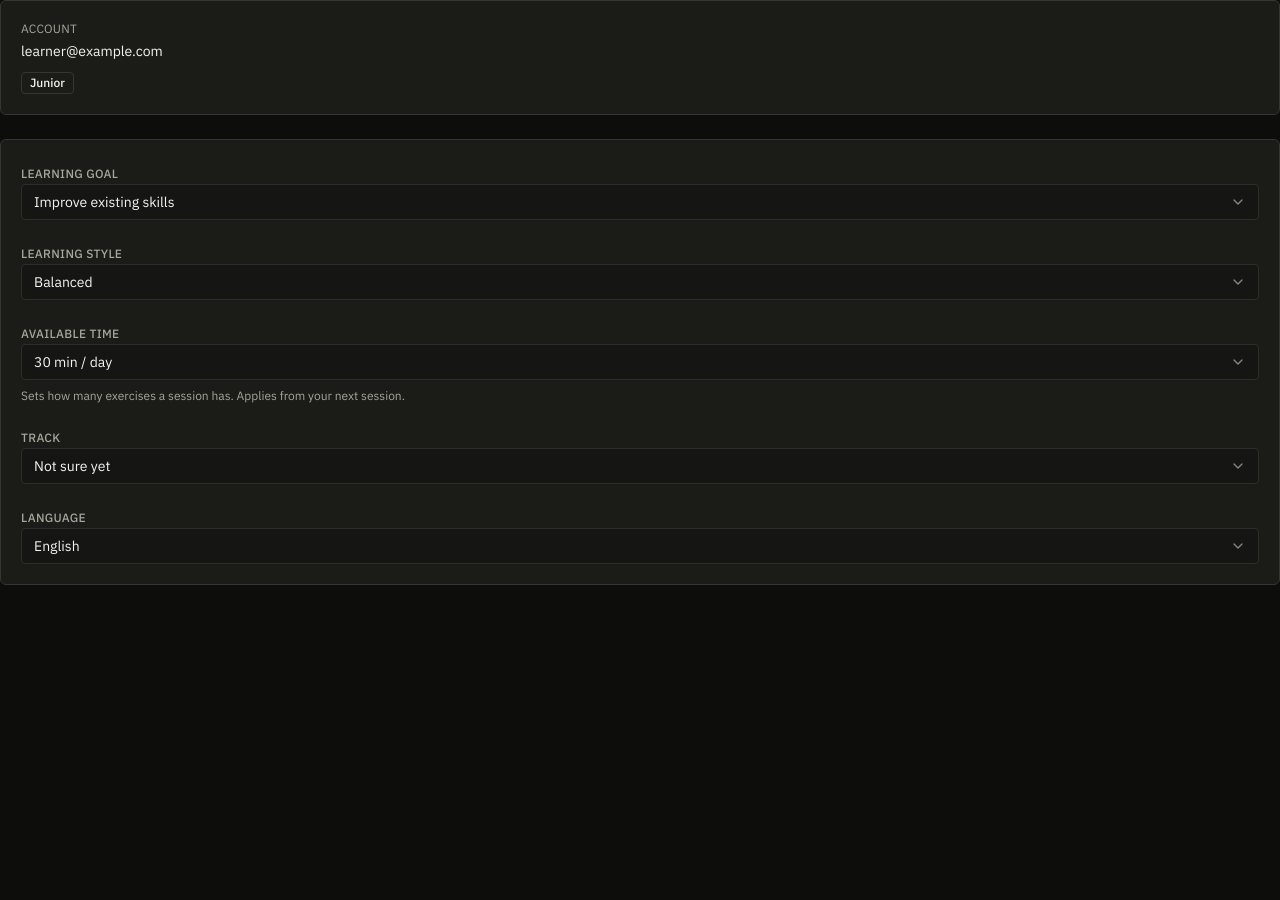
Test: SettingsForm › saves only the changed field when the learning-goal select changes, and shows the saved checkmark
Click the dropdown labelled "Improve existing skills" at (104, 202), box [21, 184, 1259, 220]
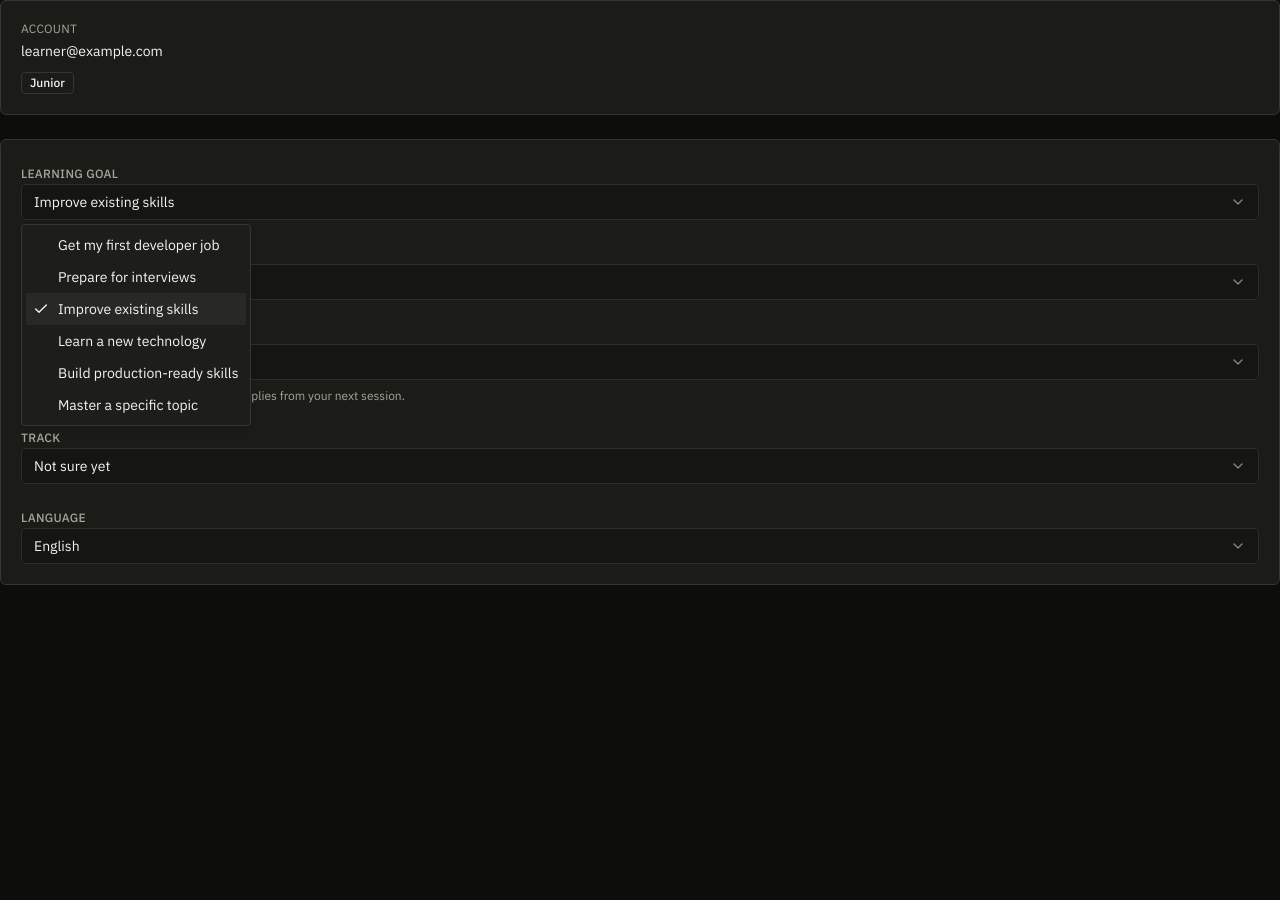
Click the option "Prepare for interviews" at (127, 277), box [58, 268, 196, 286]
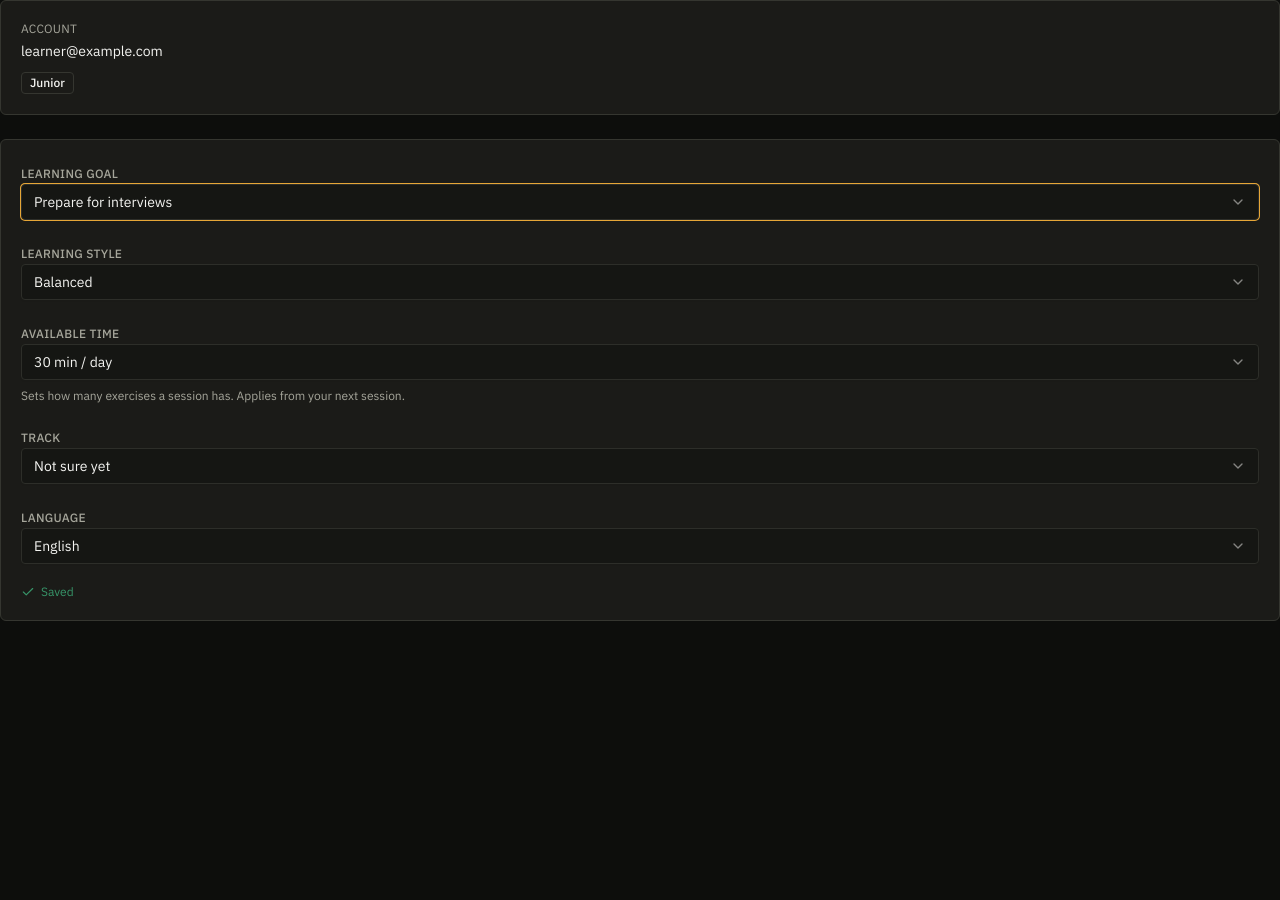
Expected: the text "Saved" is shown, [21, 584, 74, 599]
Expected: the list is gone
